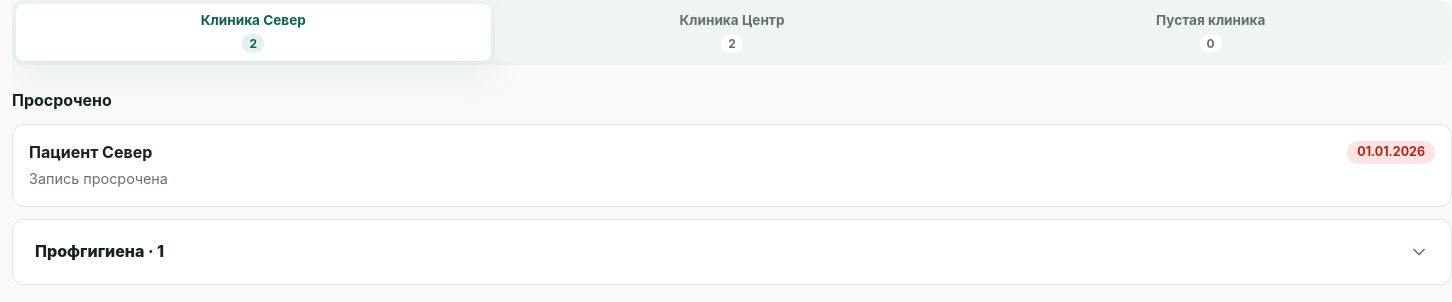
Test: clinic reminder tabs › shows a zero-count tab and an empty state for a clinic without reminders
expect the text named "Напоминаний: 0" is shown: met, box [1200,34,1222,53]
Click the tab "Пустая клиника 0" at (1211, 33), box [973,4,1448,61]
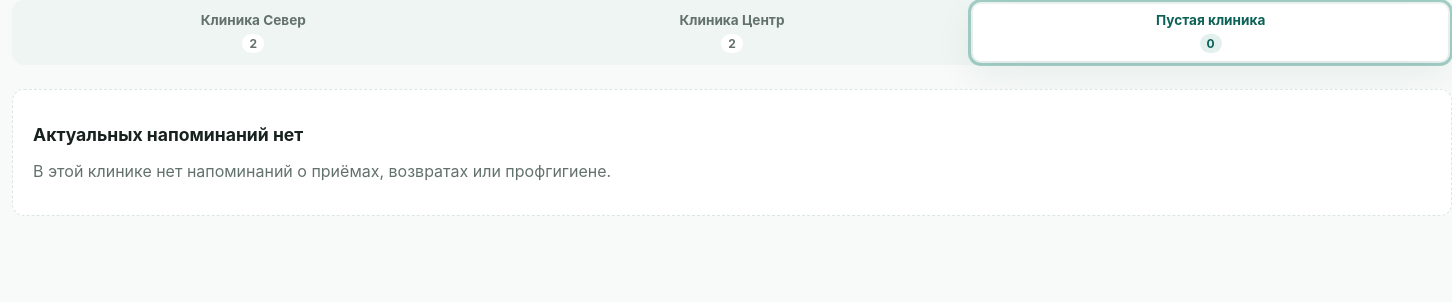
expect the heading "Актуальных напоминаний нет" is shown: met, box [33,124,303,145]
expect the link "Пациент Север" is gone: met
